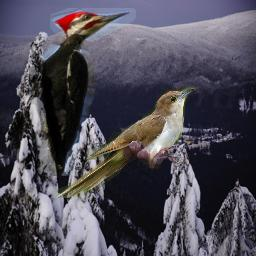Cuckoo: (54, 86, 196, 198)
Woodpecker: (29, 8, 136, 176)
